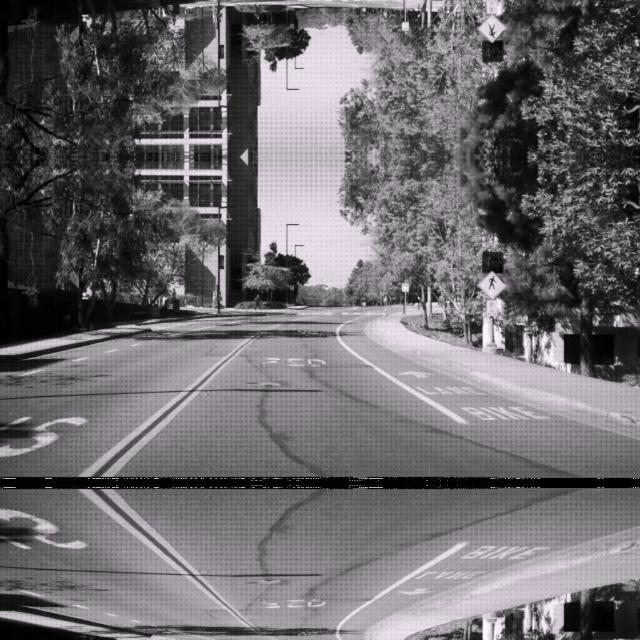pedestrianCrossing: (477, 268, 507, 298), (477, 14, 507, 44)
